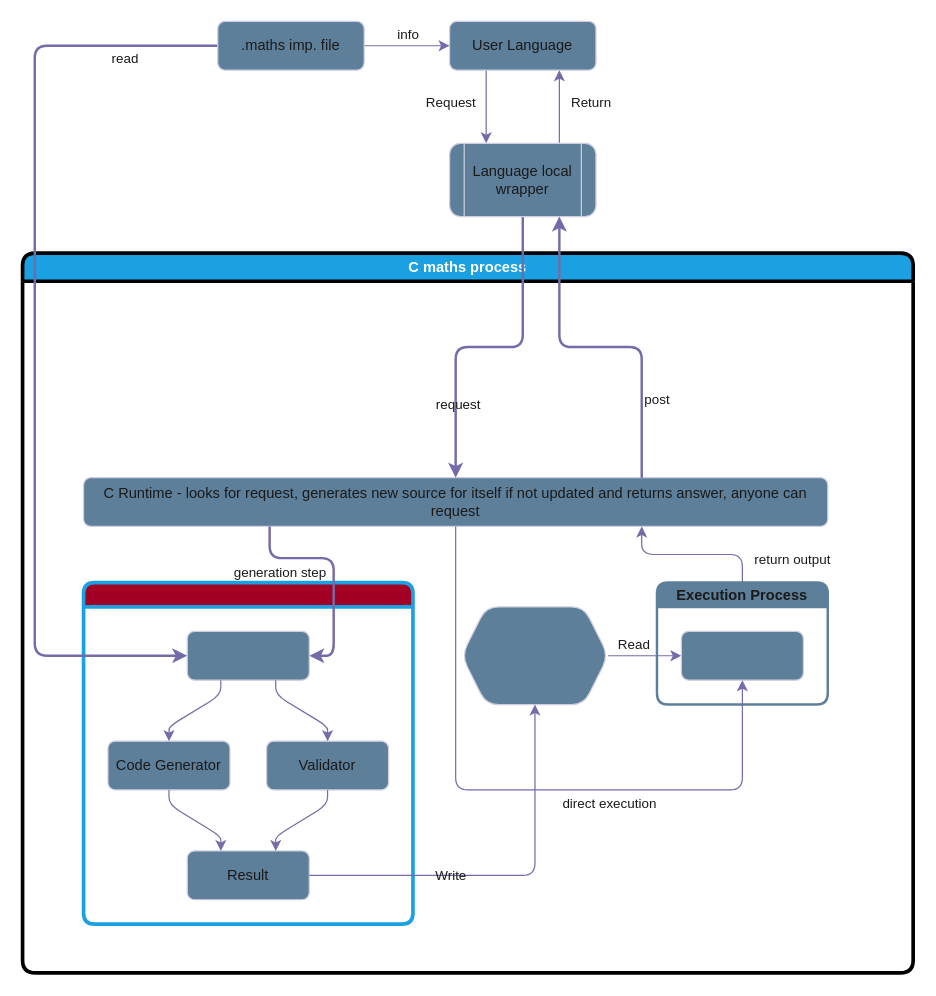
This 936x996 diagram has some shape labels left out. The box of each missing label's shape, as (x1, y1, x2, y2) in pixels:
C execution: (680, 630, 803, 680)
GENERATED C CODE: (461, 606, 608, 705)
Generation Process: (81, 580, 414, 925)
Parser: (186, 630, 309, 680)
